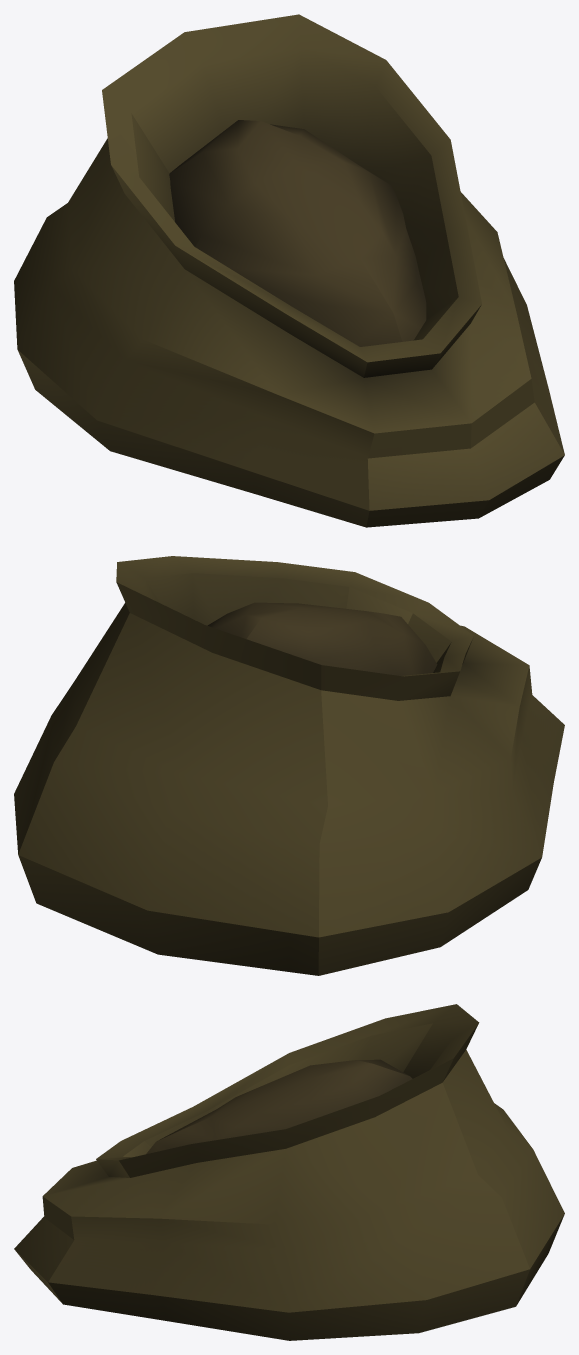
Rendered from pq_sac_ouvert.glb.
3 views of the same model, one above another, from view 1: azimuth 30°, elevation 25°; view 2: azimuth 150°, elevation 25°; view 3: azimuth 270°, elevation 25° (orthographic). The views are drawn at different scales.
Parts seen in each view (by area): view 1: Bag_Open; view 2: Bag_Open; view 3: Bag_Open.
Part boxes in pixels (bbox=[...]): Bag_Open: bbox=[14, 14, 564, 527]; Bag_Open: bbox=[14, 556, 564, 975]; Bag_Open: bbox=[14, 1004, 564, 1340].
Bounding box in the file's own units: 0.5755 × 0.4 × 0.7797.
